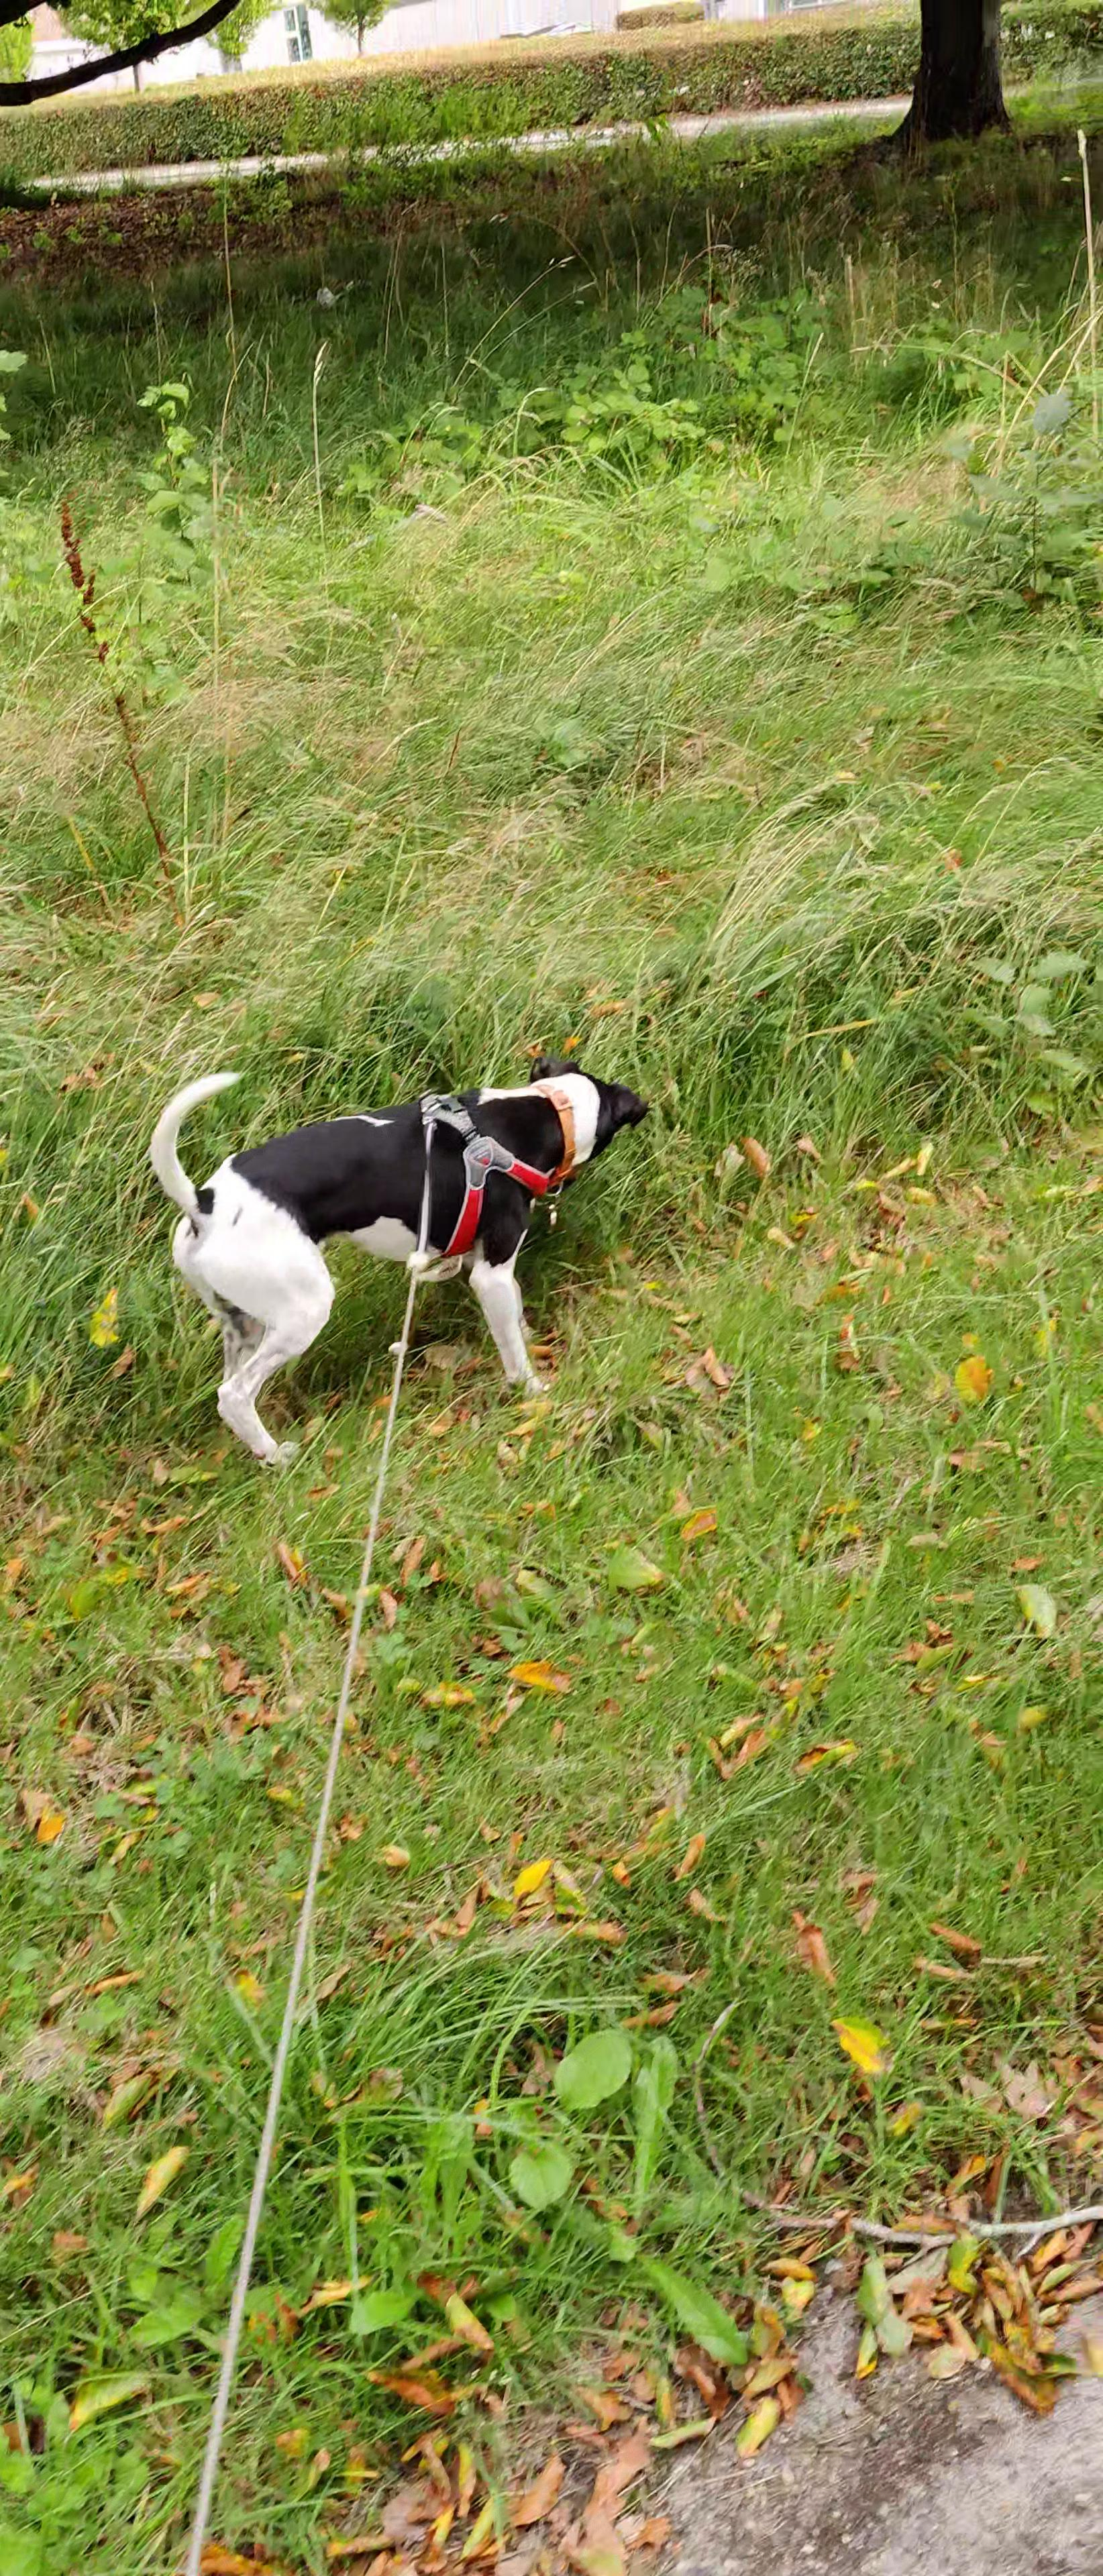Dog: (135, 1028, 658, 1487)
